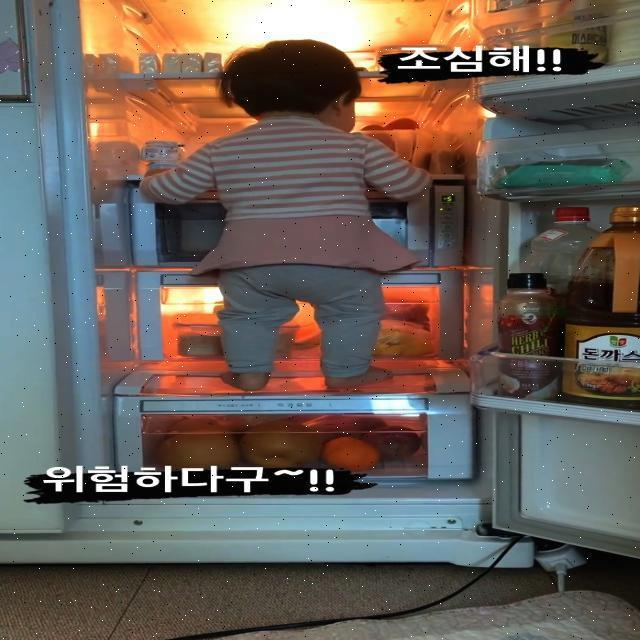child: (152, 44, 442, 393)
